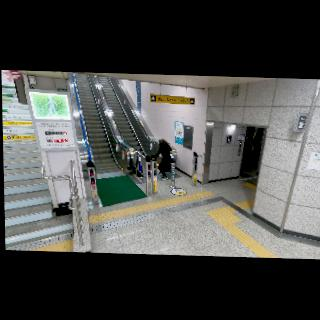normal: (146, 137, 173, 182)
